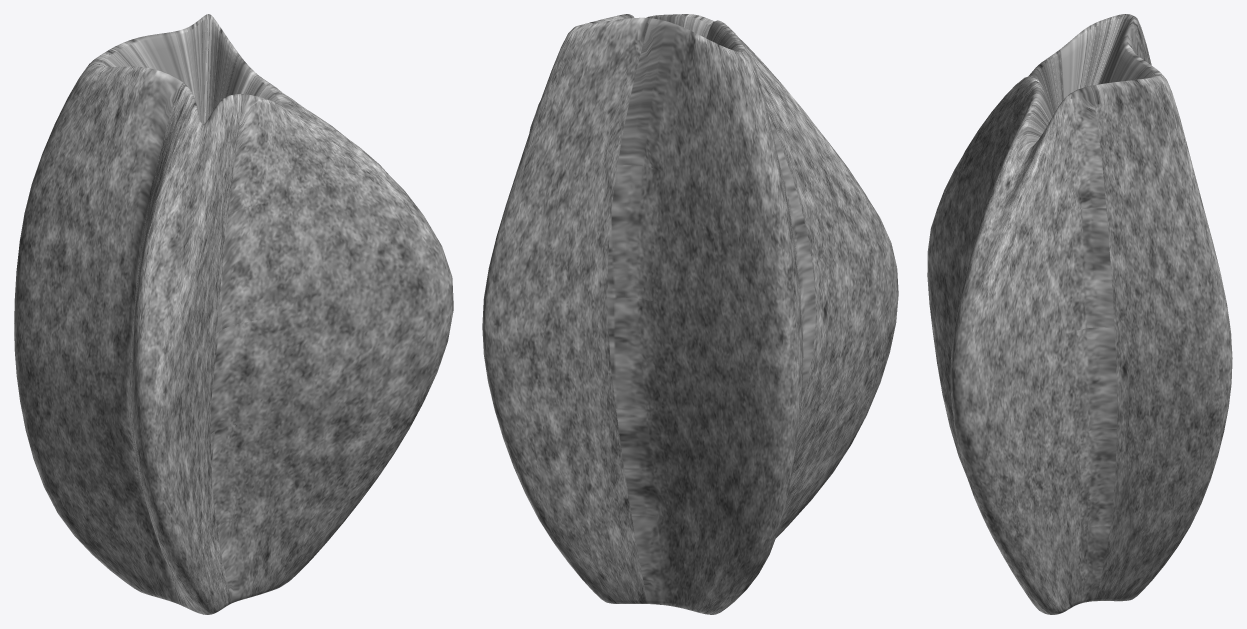
The model's file is vase1.obj.
3 renders of one model, left to right at view 1: azimuth 30°, elevation 25°; view 2: azimuth 150°, elevation 25°; view 3: azimuth 270°, elevation 25°, orthographic. The views are drawn at different scales.
Parts seen in each view (by area): view 1: 3dstylish00; view 2: 3dstylish00; view 3: 3dstylish00.
Part boxes in pixels (x1,y1,x2,y2): 3dstylish00: (14,14,453,614); 3dstylish00: (482,14,898,614); 3dstylish00: (927,14,1232,614).
Bounding box in the file's own units: 53.26 × 80.51 × 41.15.
